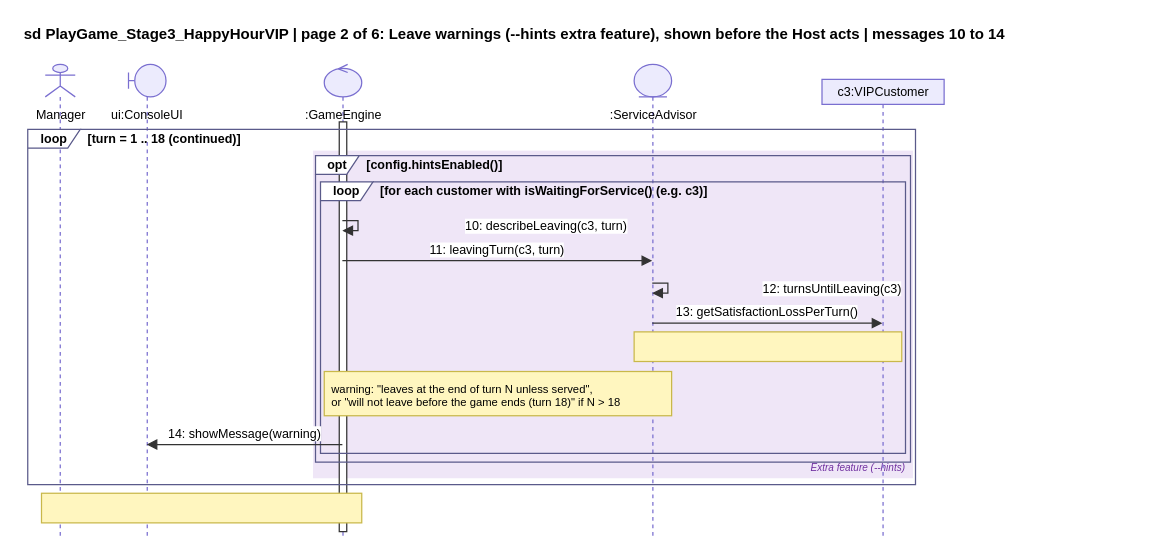
Image size: 1168x559. Some labels were removed from this diagram. Here are the shapes that lost their labels. From the top down, the centre of each, then its label:
At [767,346]: "VIP override: 5".
At [201,507]: "the turn loop continues on page 3".
